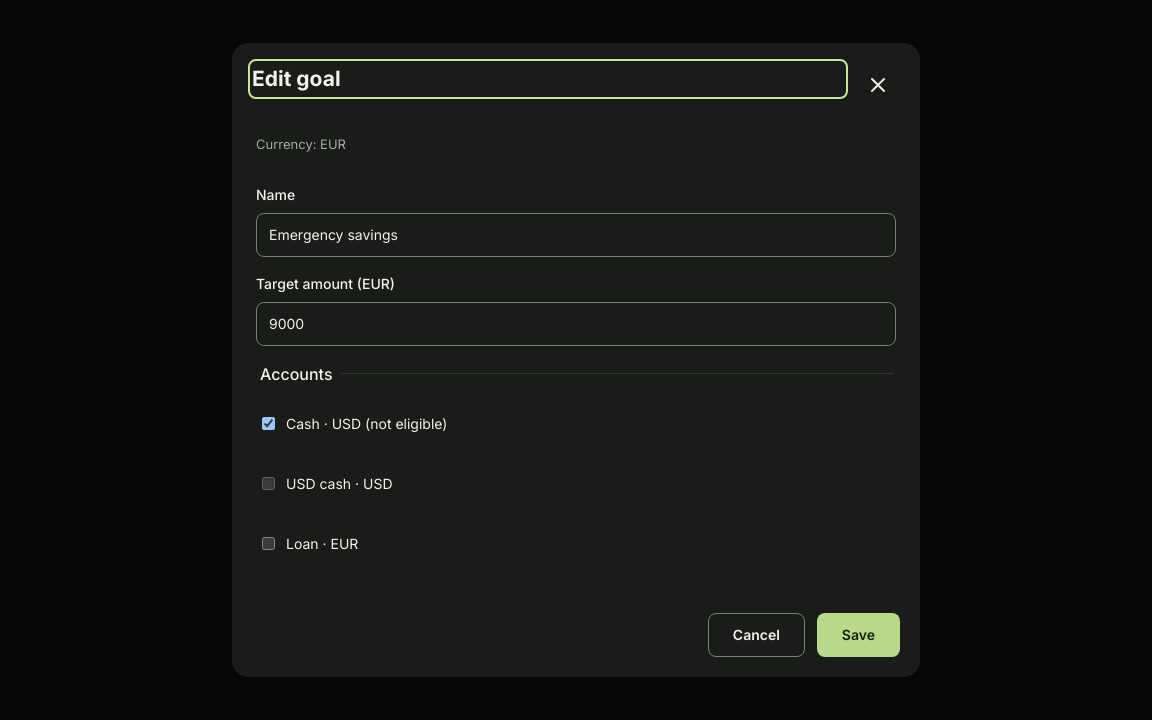
Test: GoalEditor › keeps the saved currency and refuses a savings account whose currency changed
Expected: the text "Currency: EUR" is shown, [256,136,346,152]
Expected: the field labelled "Target amount (EUR)" is shown, [256,302,896,346]
Click the button "Save". click: [858, 635]
box: [817,613,900,657]
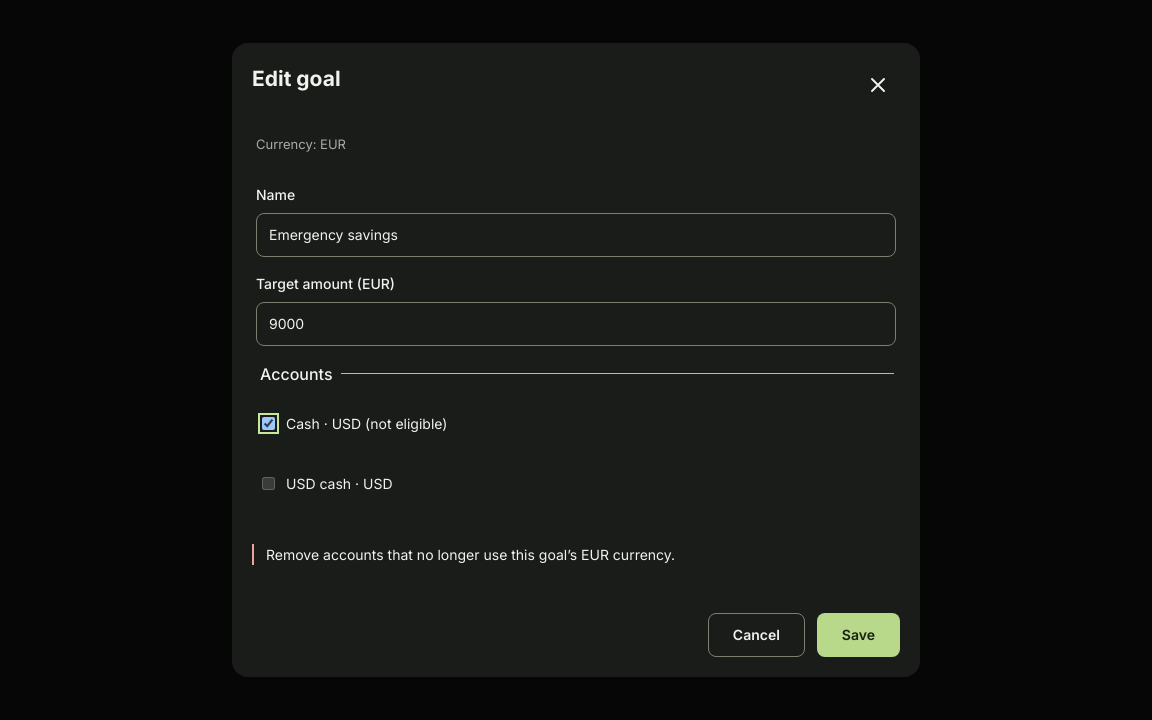
Result: the message reads "Remove accounts that no longer use this goal’s EUR currency." at [266,546,675,563]
Click the checkbox labelled "Cash · USD (not eligible)". click: [268, 424]
box: [262,417,275,430]
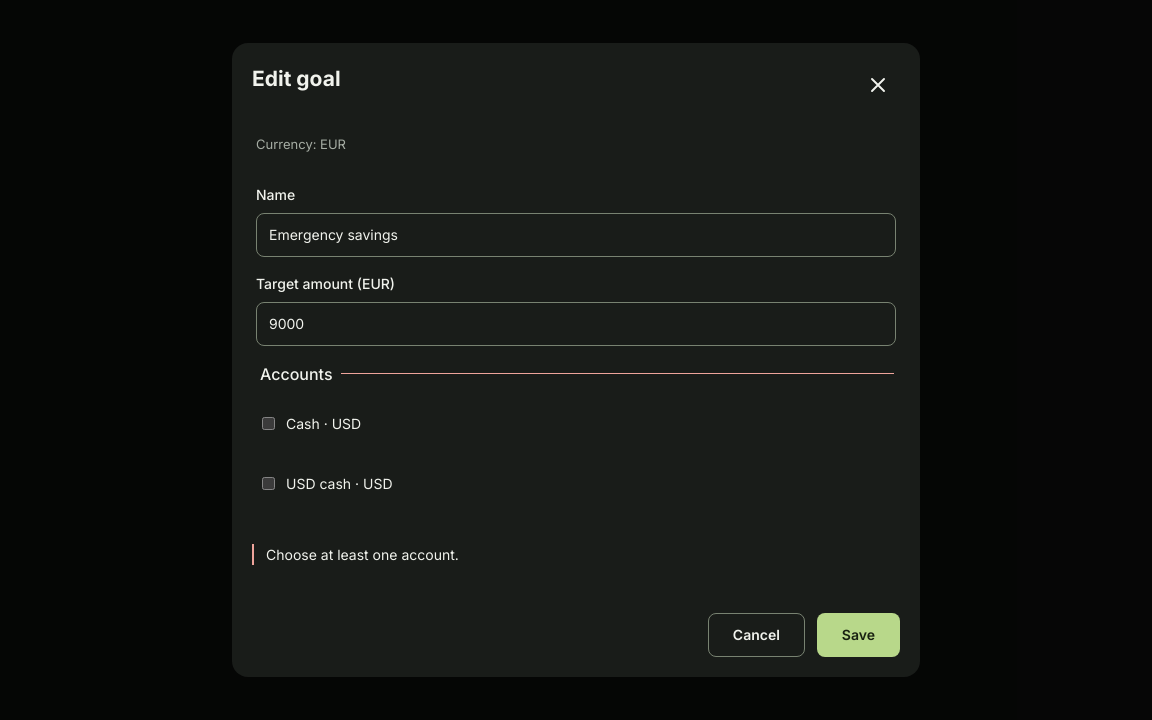
Click the checkbox labelled "Cash · USD". click: [268, 424]
box: [262,417,275,430]
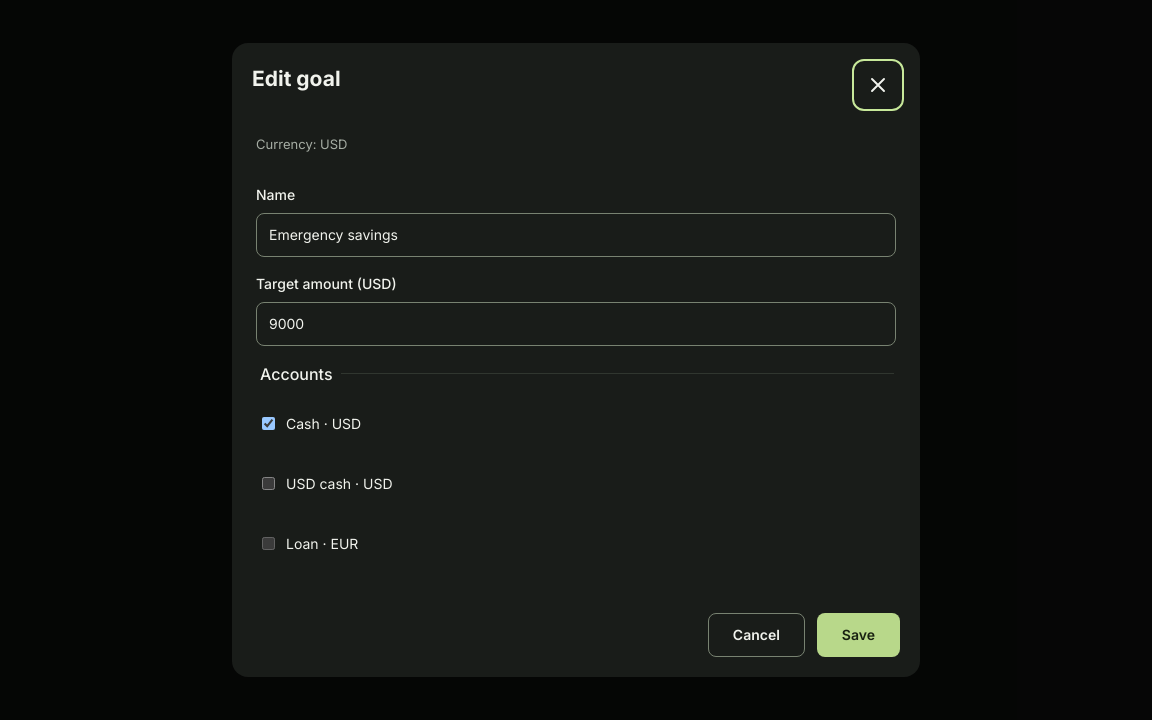
Result: the text "Currency: USD" is shown at [256,136,348,152]
